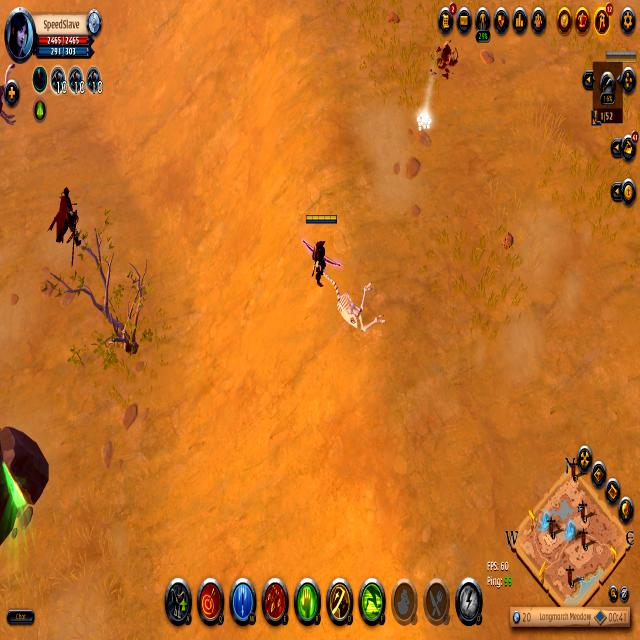ore: (49, 185, 81, 248)
red: (302, 210, 339, 288), (604, 49, 639, 68)
stone: (416, 106, 432, 134)
